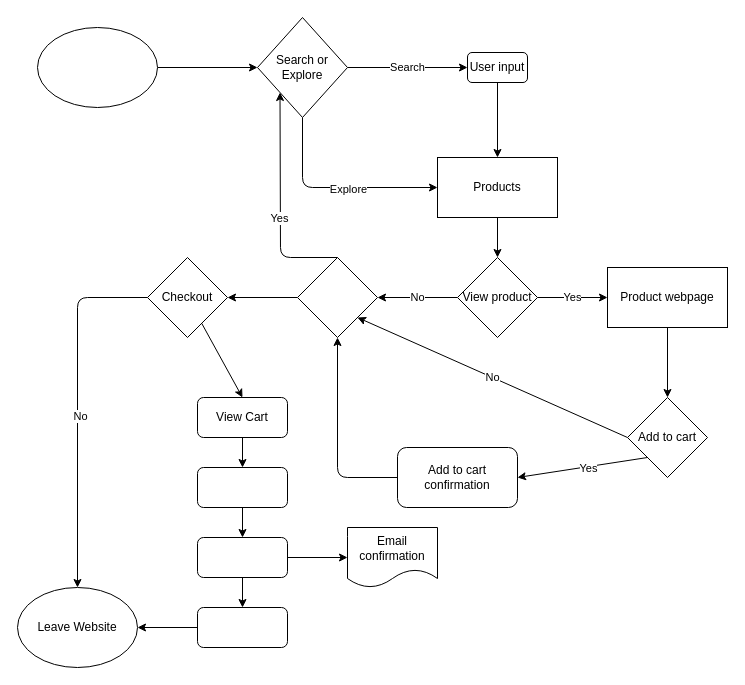
This 745x685 diagram has some shape labels left out. The shapes that lost their labels are listed below. From the top down, each one's centre as x and y in pixels, then its label:
point 97,67: User Enters the Website
point 337,297: Continue Shopping
point 242,487: View Payment
point 242,557: Input Payment info
point 242,627: Confirmation screen
